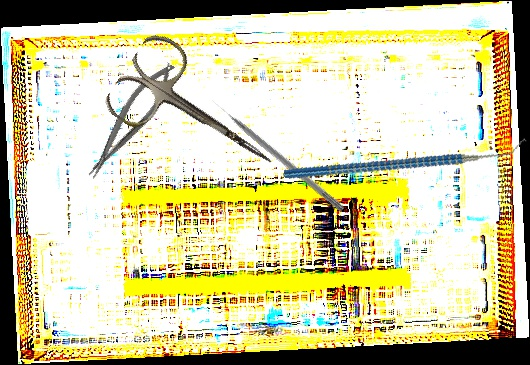Chopper: (282, 83, 528, 233)
Iris Scissors: (100, 27, 297, 204)
Needle Holder: (75, 56, 185, 184)
Pusher: (209, 96, 347, 213)
